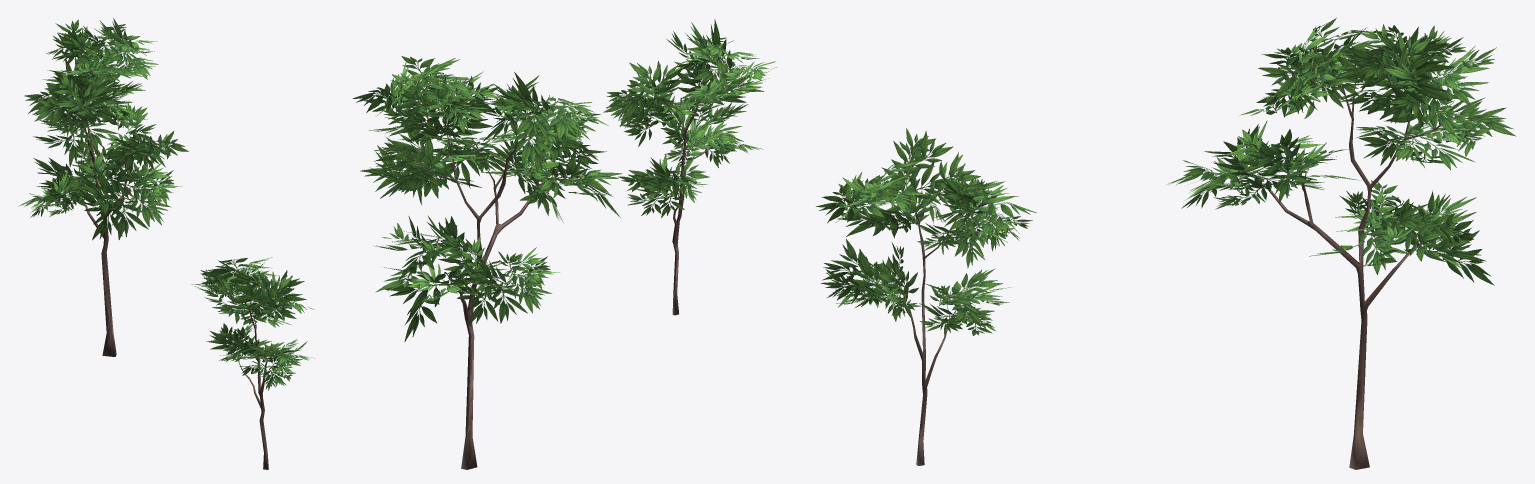
File: Phoebe Ianceolata_Seeding.fbx
The picture shows the model from 3 angles, left to right: view 1: azimuth 30°, elevation 25°; view 2: azimuth 150°, elevation 25°; view 3: azimuth 270°, elevation 25°; orthographic projection. The views are drawn at different scales.
Visible parts, largest first — view 1: Phoebe_Seeding_3, Phoebe_Seeding_2; view 2: Phoebe_Seeding_3, Phoebe_Seeding_2; view 3: Phoebe_Seeding_3, Phoebe_Seeding_2.
Part boxes in pixels (x1,y1,x2,y2): Phoebe_Seeding_3: [17, 18, 188, 356]; Phoebe_Seeding_2: [191, 257, 315, 469]; Phoebe_Seeding_3: [352, 56, 622, 469]; Phoebe_Seeding_2: [603, 19, 777, 315]; Phoebe_Seeding_3: [1167, 18, 1515, 469]; Phoebe_Seeding_2: [816, 128, 1036, 465].
Bounding box in the file's own units: 177 × 341 × 495.
2 materials, 2 textured.
